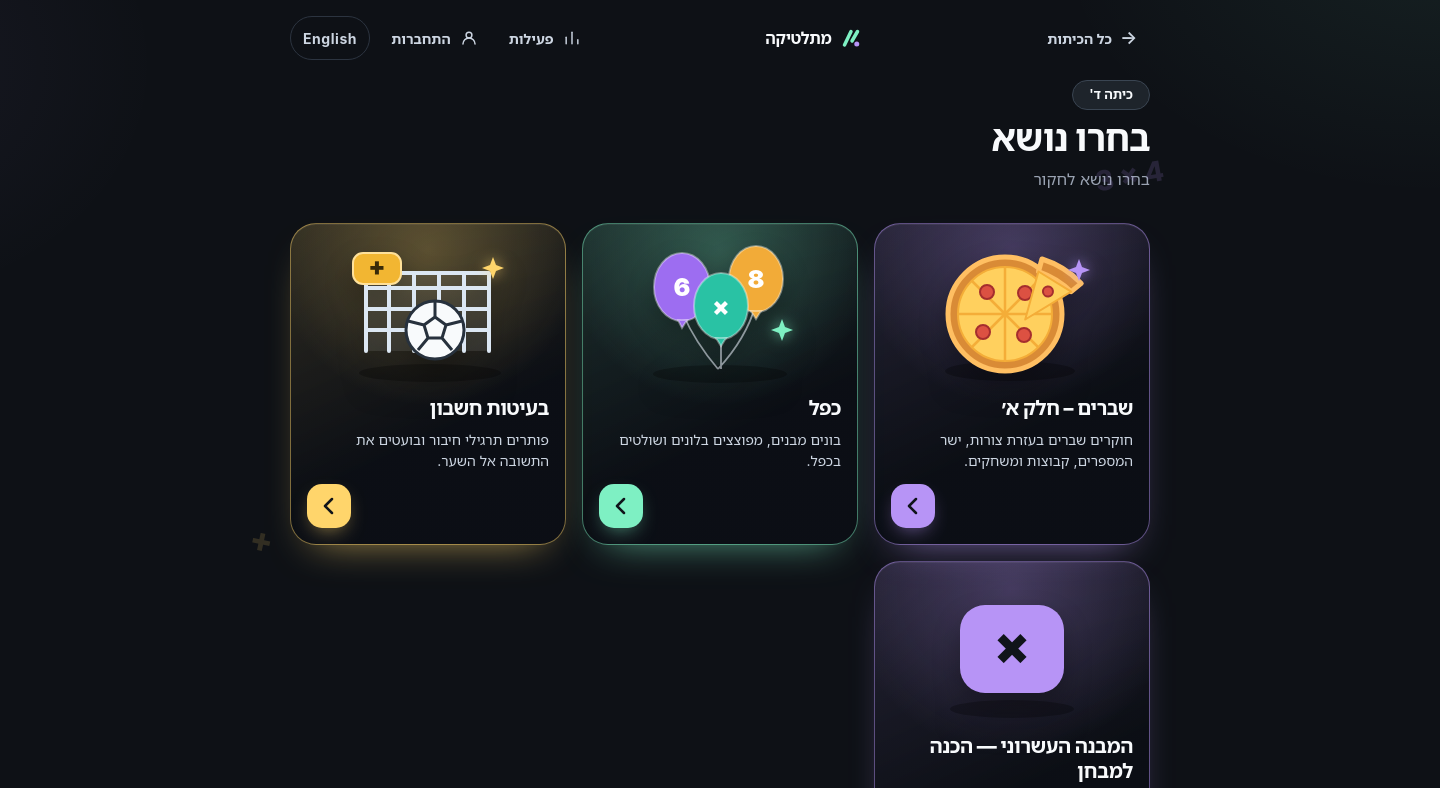
Mathletica shell › keeps the Grade 4 fraction activities reachable (the app has no Fraction Balloons game)
The image size is (1440, 788).
Click the link "שברים – חלק א׳" at (1012,384), box [874,223,1150,545]
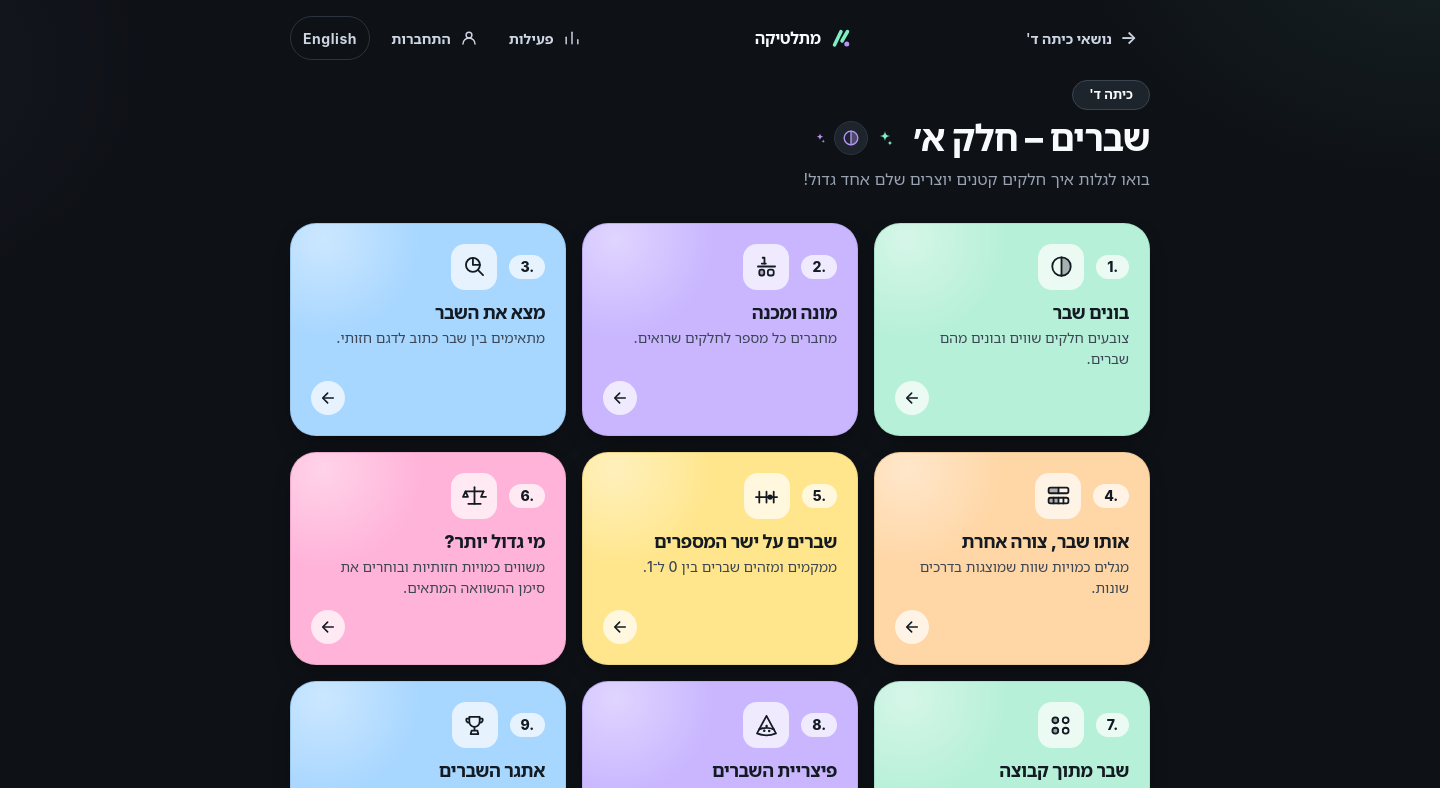
Check: the link "1. בונים שבר צובעים חלקים שווים ובונים מהם שברים." is shown, box [874,223,1150,436]
